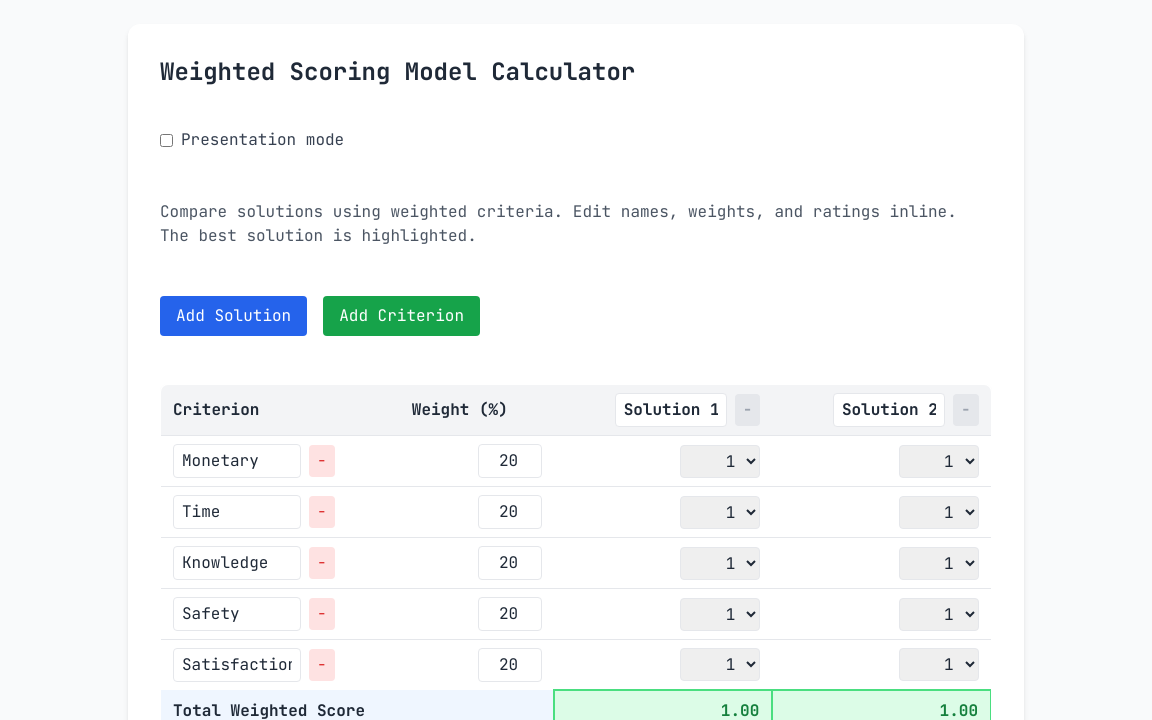
WeightedScoringPanel user interactions › can add a criterion
The width and height of the screenshot is (1152, 720).
Click the button "Add Criterion" at (402, 316), box [323,296,480,336]
(page scrolled)
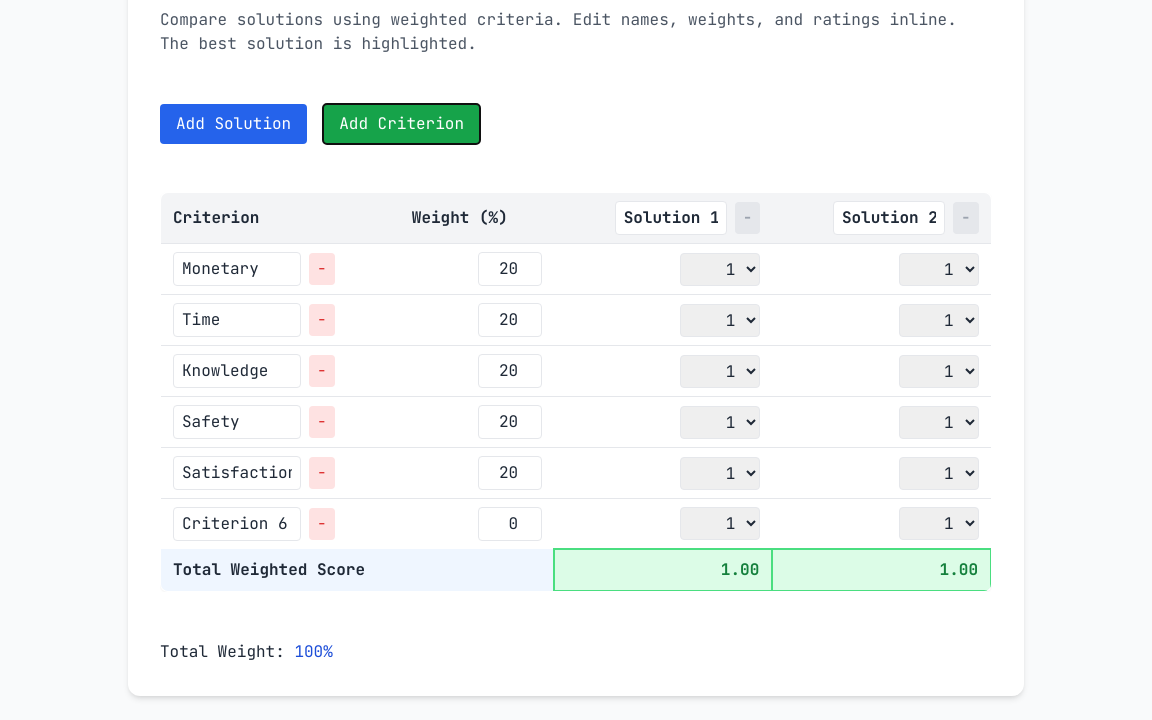
Result: the cell with test id "criterion-Criterion 6" is shown at [160,498,400,549]
